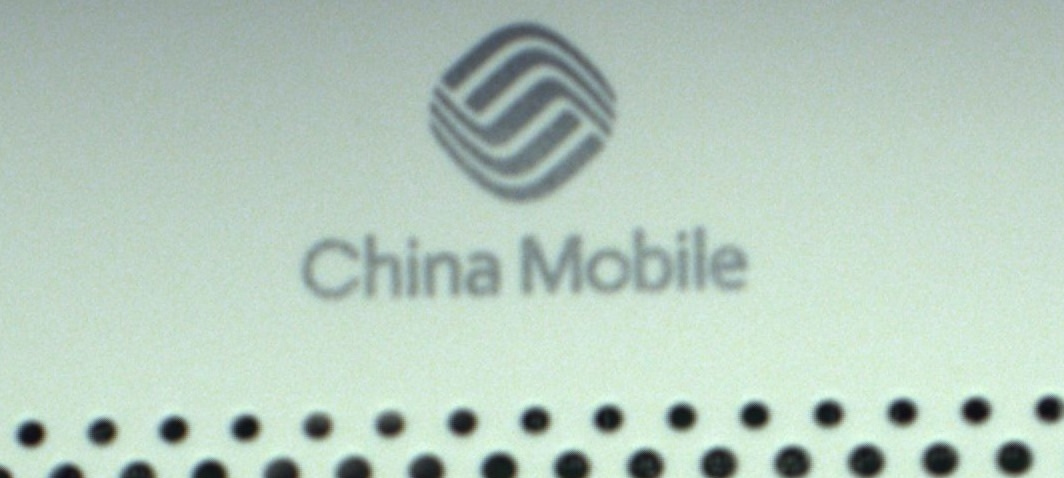AA_ChinaMobile: (293, 22, 753, 311)
